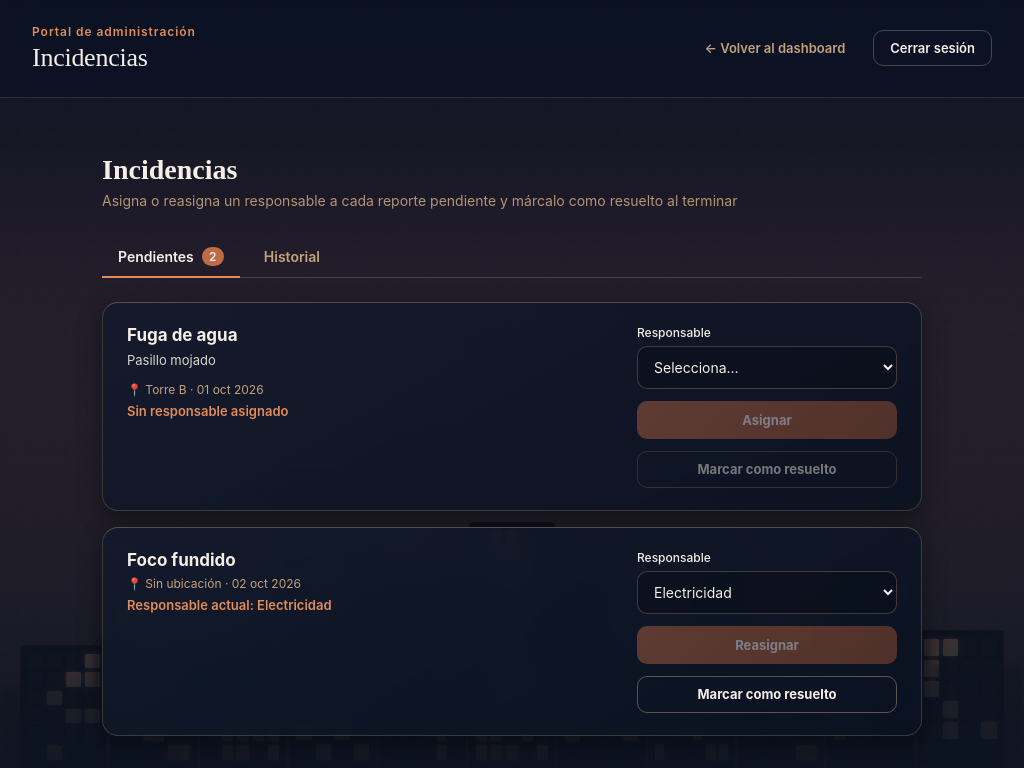
Test case: CU-09 resolver › muestra el error al resolver
The image size is (1024, 768).
Expected: the heading "Foco fundido" is shown, [127,550,236,570]
Click the 2nd button "Marcar como resuelto" at (767, 694), box [637,676,897,713]
(page scrolled)
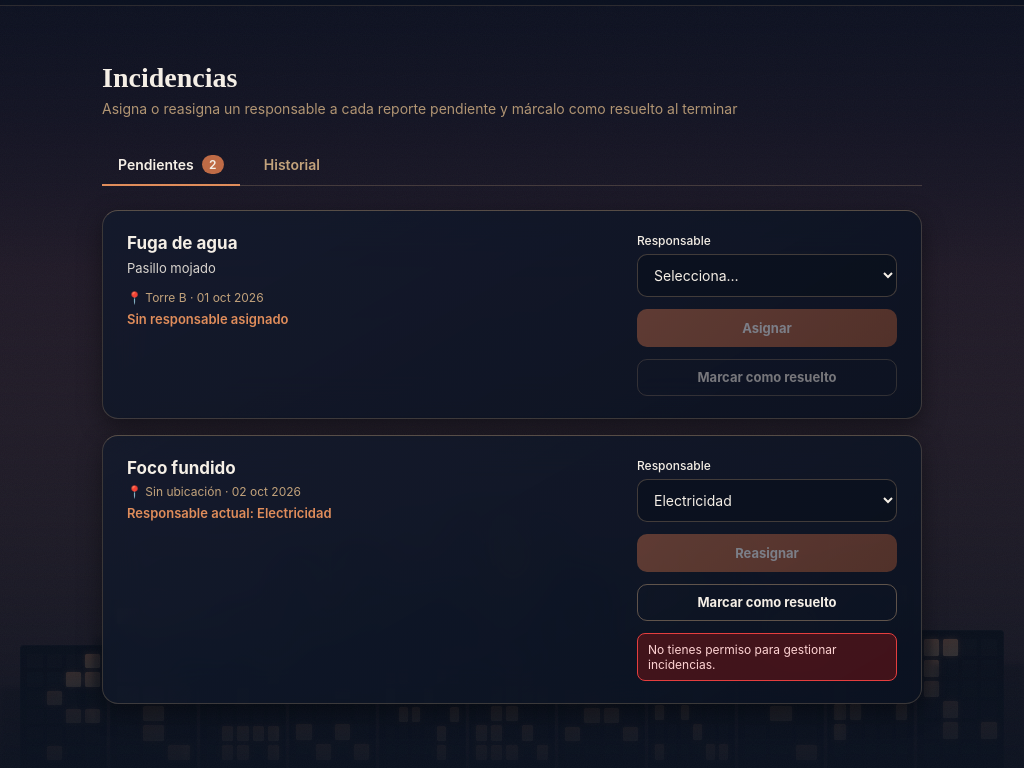
Now the message shows "No tienes permiso", box [648,642,836,672]
